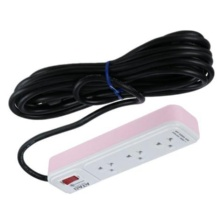three_eye_plug: (43, 101, 202, 197)
